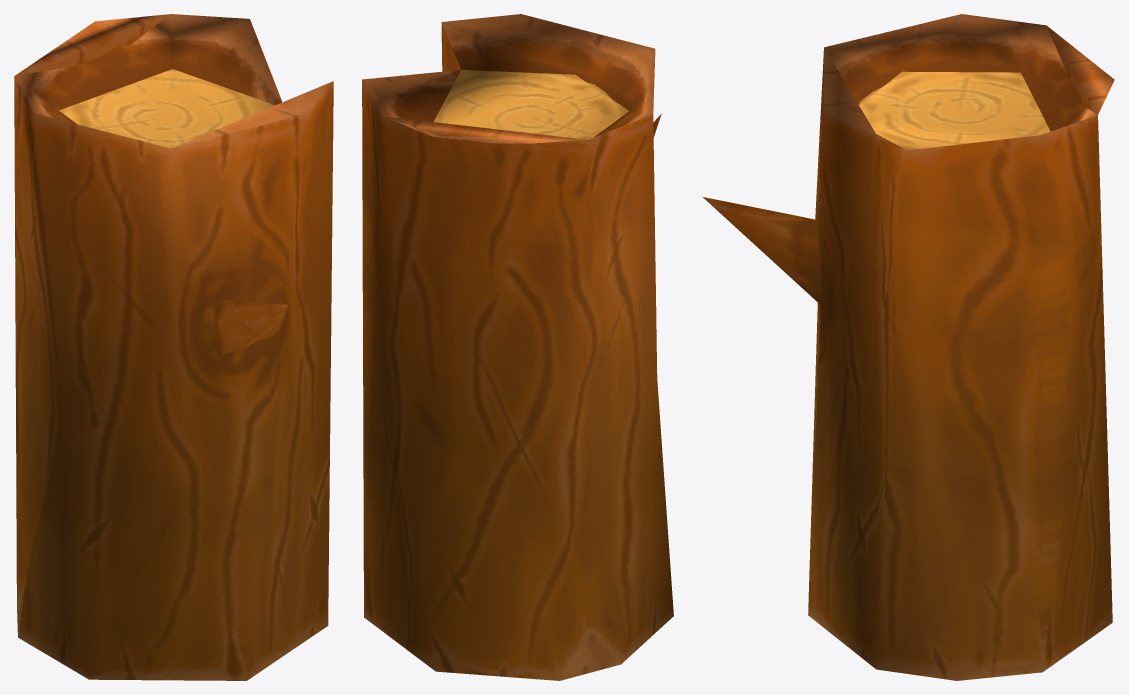
File: log_LOD1.fbx
The picture shows the model from 3 angles, left to right: view 1: azimuth 30°, elevation 25°; view 2: azimuth 150°, elevation 25°; view 3: azimuth 270°, elevation 25°; orthographic projection.
Parts seen in each view (by area): view 1: log_low; view 2: log_low; view 3: log_low.
Part boxes in pixels (box(x1,y1,x2,y2)): log_low: box(14, 14, 333, 680); log_low: box(362, 14, 673, 680); log_low: box(703, 14, 1114, 680).
Bounding box in the file's own units: 194 × 374 × 258.
